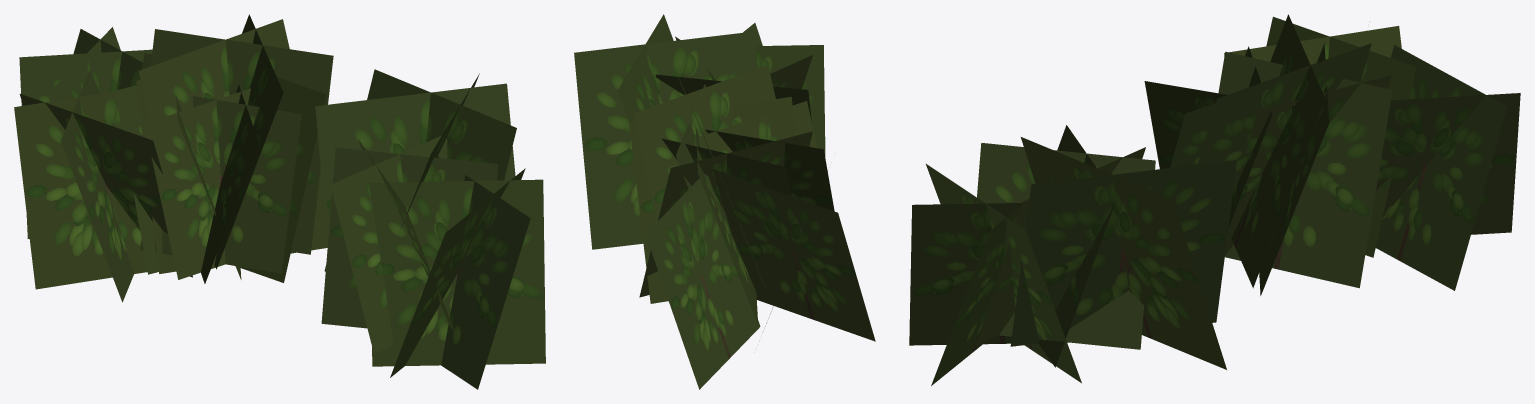
Rendered from SM_Art_Veg_Shrub_1.gltf.
3 views of the same model, side by side, from view 1: azimuth 30°, elevation 25°; view 2: azimuth 150°, elevation 25°; view 3: azimuth 270°, elevation 25° (orthographic). The views are drawn at different scales.
Parts seen in each view (by area): view 1: SM_Art_Veg_Shrub_1; view 2: SM_Art_Veg_Shrub_1; view 3: SM_Art_Veg_Shrub_1.
Boxes of the visible parts, x1,y1,x2,y2 form: SM_Art_Veg_Shrub_1: (14, 14, 545, 389); SM_Art_Veg_Shrub_1: (574, 14, 875, 389); SM_Art_Veg_Shrub_1: (909, 14, 1520, 385).
Size of the model in its own units: 2 by 1.12 by 2.51.
1 material, 1 textured.
